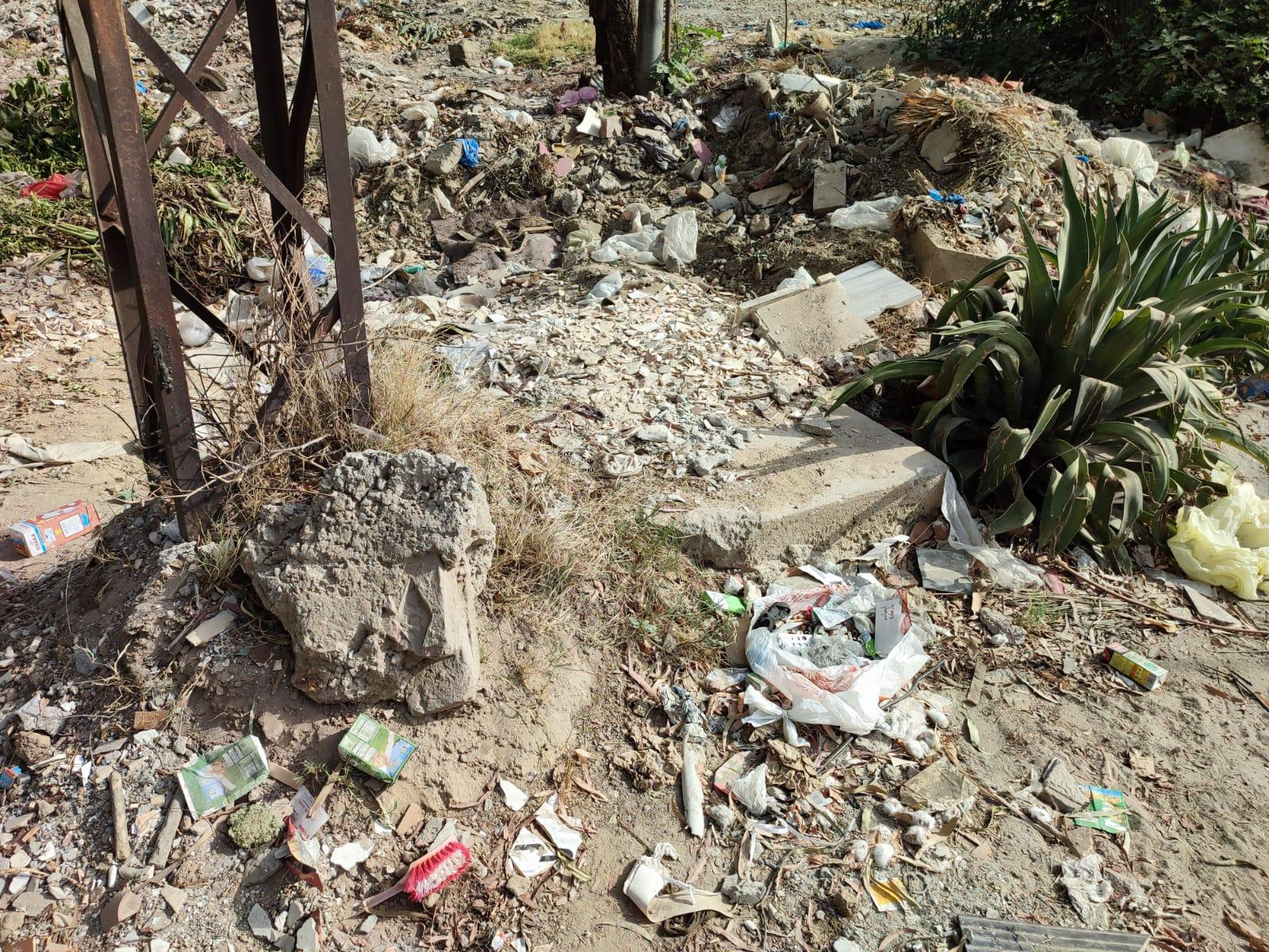garbage: (342, 56, 1122, 297), (691, 482, 1046, 783), (154, 701, 529, 921)
